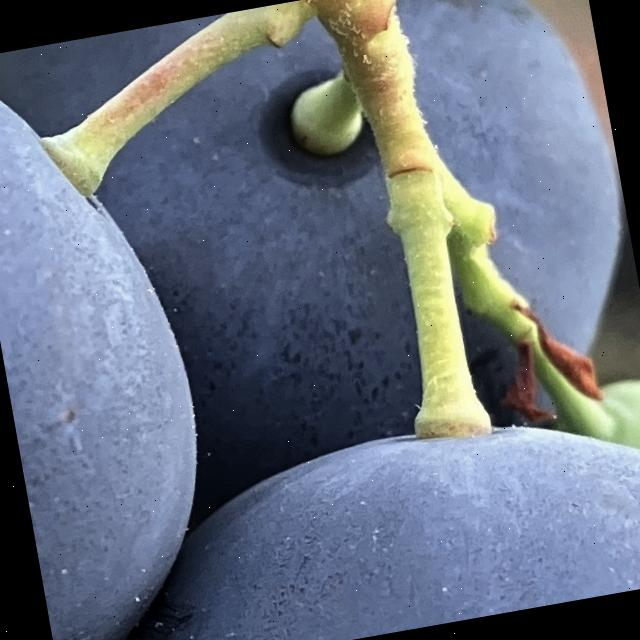Blueberries: (49, 378, 640, 640), (0, 29, 239, 640)
